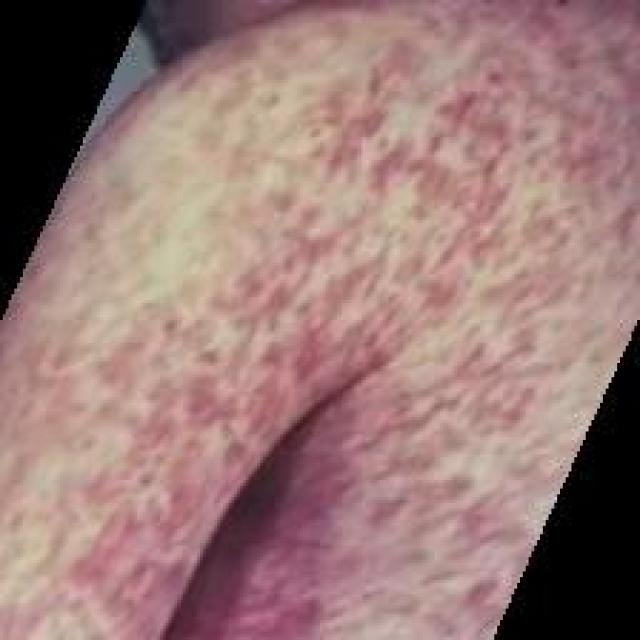others: (18, 0, 623, 616)
